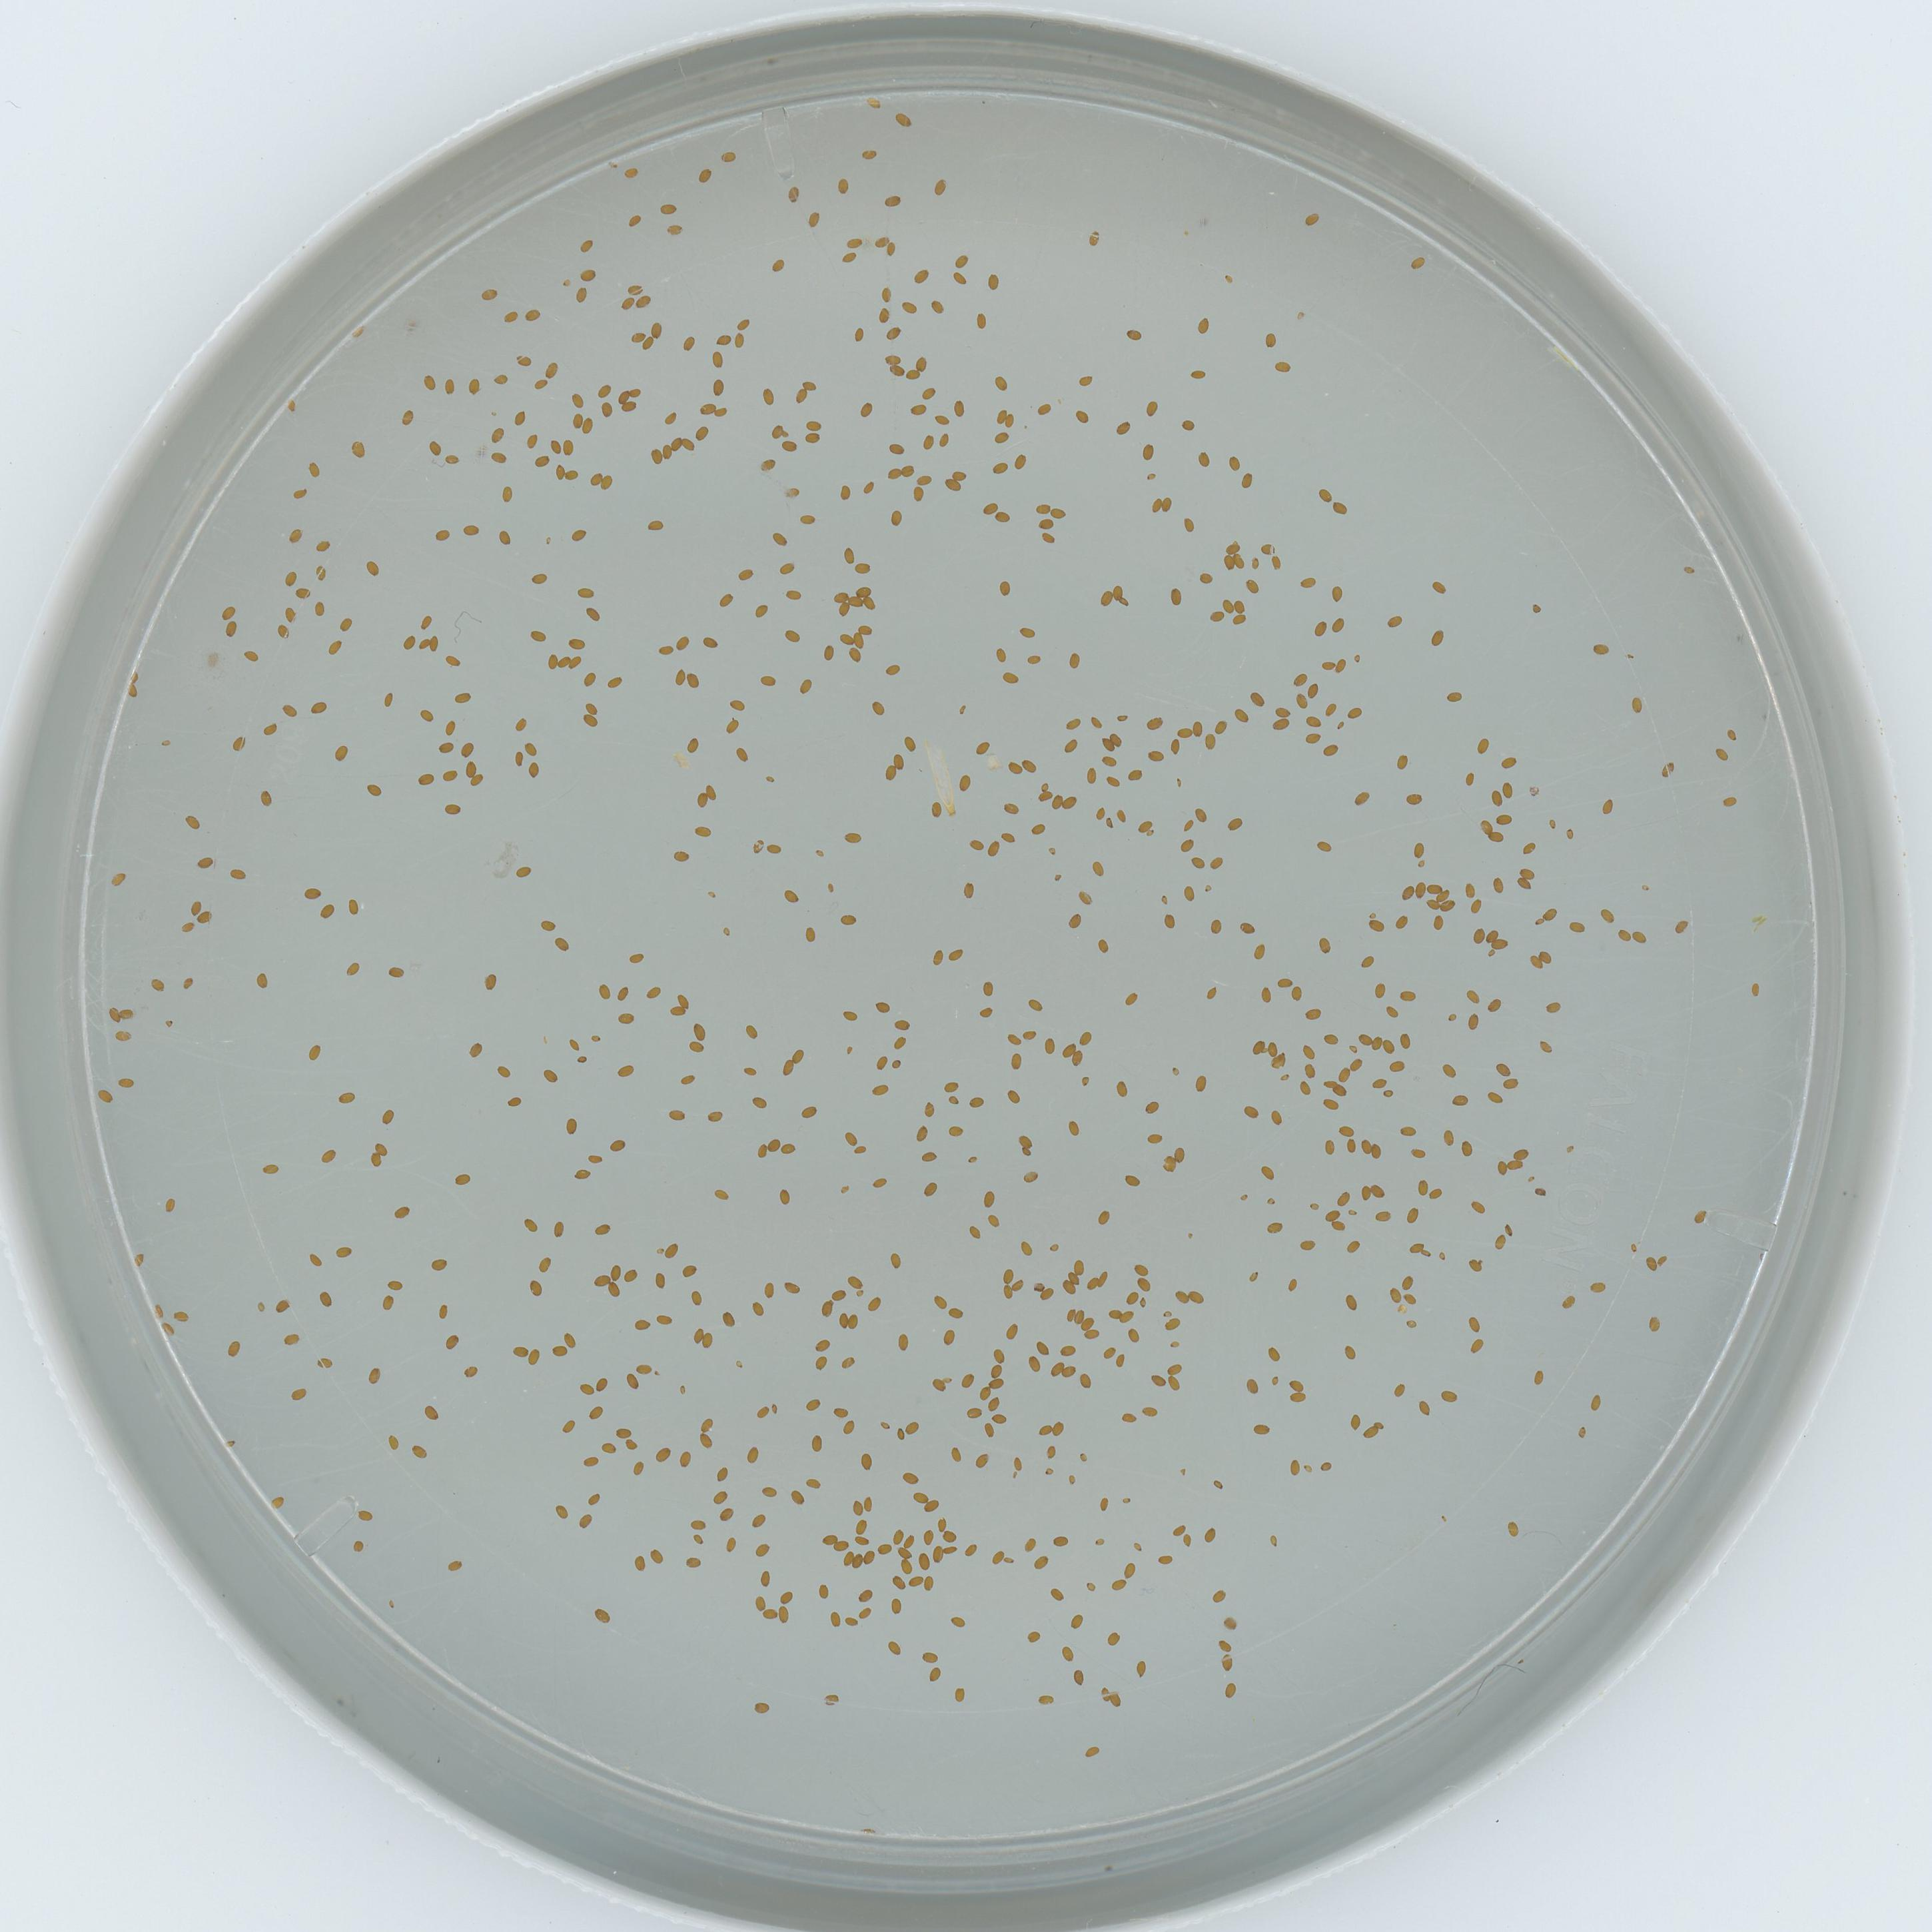seed: (759, 386, 780, 405), (568, 391, 587, 410), (709, 375, 729, 395), (690, 1019, 709, 1039), (1315, 934, 1334, 954), (1138, 441, 1157, 460), (1058, 1339, 1077, 1359), (1270, 1051, 1290, 1070), (679, 1260, 701, 1277), (336, 1088, 357, 1106), (651, 1270, 669, 1292), (366, 1150, 387, 1168), (1023, 1353, 1044, 1371), (318, 902, 338, 920), (442, 651, 462, 669), (901, 734, 918, 754), (379, 690, 396, 709), (182, 814, 202, 832), (683, 736, 702, 754), (579, 264, 598, 281), (784, 626, 803, 644), (771, 529, 791, 547), (541, 361, 561, 379), (931, 410, 950, 428), (870, 699, 890, 717), (416, 770, 435, 787), (858, 400, 878, 418), (770, 257, 787, 276), (363, 559, 382, 577), (835, 177, 853, 196), (955, 773, 973, 793), (525, 1277, 545, 1295), (593, 1605, 612, 1622), (253, 971, 271, 991), (288, 1385, 308, 1403), (782, 1277, 801, 1295), (421, 1403, 441, 1421), (575, 1511, 594, 1529), (317, 1290, 334, 1309), (318, 1145, 338, 1162), (901, 1468, 920, 1486), (364, 1366, 384, 1384), (281, 1329, 299, 1348), (717, 1506, 736, 1523), (653, 1444, 672, 1461), (625, 1373, 642, 1392), (858, 1453, 878, 1470), (1113, 418, 1132, 435), (1311, 617, 1330, 635), (1444, 688, 1463, 706), (1327, 584, 1346, 602), (1060, 738, 1079, 755), (1428, 628, 1445, 648), (1125, 766, 1145, 784), (1366, 916, 1385, 934), (1166, 587, 1185, 605), (1058, 1644, 1077, 1661), (1341, 1292, 1361, 1309), (1253, 1419, 1272, 1437), (1299, 1042, 1318, 1060), (1067, 1668, 1086, 1686), (1320, 1138, 1338, 1157), (1069, 1049, 1086, 1069), (1265, 1219, 1284, 1237), (929, 800, 945, 821), (786, 184, 801, 205), (1014, 1134, 1035, 1150), (929, 948, 947, 966), (909, 400, 927, 418), (343, 899, 361, 916), (458, 740, 476, 757), (947, 945, 964, 962), (885, 191, 902, 209), (876, 306, 893, 324), (715, 331, 732, 349), (184, 897, 202, 915), (529, 626, 547, 644), (718, 591, 736, 609), (948, 400, 966, 418), (336, 616, 354, 633), (784, 888, 801, 906), (754, 602, 771, 619), (462, 520, 479, 538), (548, 437, 566, 455), (888, 510, 906, 527), (303, 885, 320, 902), (571, 285, 589, 303), (648, 320, 665, 338), (793, 387, 810, 405), (333, 745, 350, 763), (310, 699, 327, 717), (674, 633, 692, 651), (195, 855, 212, 872), (570, 525, 587, 543), (805, 211, 823, 228), (349, 439, 366, 456), (888, 439, 906, 456), (840, 547, 858, 564), (701, 633, 718, 651), (444, 800, 462, 817), (709, 350, 727, 368), (667, 219, 685, 237), (584, 605, 602, 623), (777, 1587, 794, 1605), (915, 1553, 932, 1571), (617, 1060, 635, 1077), (750, 1511, 768, 1529), (600, 1438, 617, 1456), (890, 1573, 908, 1591), (720, 1311, 738, 1329), (922, 1180, 939, 1198), (554, 1502, 571, 1520), (442, 1332, 460, 1350), (563, 1115, 580, 1132), (481, 973, 499, 991), (745, 1445, 763, 1463), (789, 1488, 807, 1506), (617, 1008, 635, 1026), (888, 1253, 906, 1270), (858, 1585, 876, 1603), (752, 1092, 770, 1109), (663, 1242, 681, 1260), (541, 1065, 559, 1083), (867, 1293, 885, 1311), (163, 1196, 180, 1214), (172, 1306, 189, 1323), (225, 1338, 242, 1355), (920, 1527, 938, 1545), (809, 1433, 826, 1451), (669, 1102, 686, 1120), (495, 1062, 513, 1079), (536, 1254, 554, 1272), (430, 1254, 448, 1272), (356, 1506, 373, 1523), (686, 1288, 704, 1306), (594, 1219, 612, 1237), (991, 428, 1008, 446), (1329, 616, 1346, 633), (1247, 690, 1265, 708), (1145, 715, 1162, 732), (1065, 911, 1083, 929), (1598, 906, 1615, 924), (1359, 952, 1376, 970), (1628, 695, 1645, 713), (1226, 816, 1244, 833), (1062, 794, 1079, 812), (991, 458, 1008, 476), (1322, 741, 1339, 759), (1194, 317, 1212, 334), (1408, 840, 1426, 858), (1599, 798, 1617, 816), (1217, 554, 1235, 571), (1440, 1129, 1458, 1146), (1440, 1060, 1458, 1077), (1304, 1003, 1322, 1021), (1132, 1261, 1150, 1279), (1396, 1033, 1414, 1051), (1120, 1560, 1138, 1578), (1003, 1322, 1021, 1339), (1387, 1056, 1405, 1074), (1217, 1654, 1235, 1672), (980, 1189, 998, 1207), (1008, 1053, 1026, 1070), (1215, 1637, 1233, 1654), (1587, 1394, 1605, 1412), (1005, 1088, 1023, 1106), (1123, 1171, 1141, 1189), (1221, 1681, 1238, 1698), (1242, 1100, 1260, 1118), (1070, 1258, 1088, 1276), (1504, 1520, 1522, 1537), (1645, 1315, 1663, 1332), (1136, 1276, 1154, 1293), (161, 1322, 179, 1339), (1679, 561, 1697, 579), (839, 909, 858, 925), (533, 453, 552, 469), (694, 823, 713, 839), (883, 763, 899, 782), (552, 936, 571, 952), (510, 409, 529, 425), (465, 377, 481, 396), (911, 267, 931, 283), (226, 867, 246, 883), (396, 409, 416, 425), (918, 1148, 938, 1164), (587, 1403, 607, 1419), (550, 1219, 566, 1238), (895, 1332, 911, 1352), (527, 1348, 543, 1368), (609, 1261, 625, 1281), (633, 1315, 653, 1330), (906, 1573, 925, 1589), (1223, 455, 1242, 471), (1352, 791, 1371, 807), (1074, 890, 1093, 906), (1405, 791, 1424, 807), (1189, 718, 1205, 738), (1178, 885, 1198, 901), (1251, 943, 1267, 962), (1490, 787, 1506, 807), (1403, 1207, 1422, 1223), (1495, 1062, 1514, 1077), (1113, 1079, 1129, 1099), (1042, 1037, 1058, 1056), (1076, 1031, 1095, 1047), (1065, 1614, 1085, 1629), (1299, 1062, 1318, 1077), (1244, 1376, 1260, 1396), (1334, 1189, 1353, 1205), (1095, 1270, 1111, 1290), (1382, 1037, 1398, 1056), (985, 1394, 1001, 1414), (1192, 1074, 1208, 1093), (1095, 1684, 1111, 1704), (1139, 1405, 1161, 1419), (1173, 1145, 1187, 1166), (426, 439, 444, 455), (460, 761, 478, 777), (281, 702, 299, 718), (453, 690, 471, 706), (531, 570, 548, 586), (596, 382, 612, 400), (219, 603, 235, 621), (524, 306, 541, 322), (738, 566, 755, 582), (442, 720, 458, 738), (577, 586, 594, 602), (694, 425, 711, 441), (920, 384, 938, 400), (607, 674, 625, 690), (909, 487, 927, 502), (920, 432, 936, 449), (488, 426, 506, 442), (846, 830, 863, 846), (847, 232, 865, 248), (437, 740, 455, 755), (568, 633, 586, 649), (798, 678, 816, 694), (580, 672, 598, 688), (699, 400, 717, 416), (287, 527, 304, 543), (628, 948, 646, 964), (911, 354, 929, 370), (801, 925, 819, 941), (626, 281, 644, 297), (257, 791, 274, 807), (805, 416, 823, 432), (582, 699, 600, 715), (685, 672, 702, 688), (281, 607, 299, 623), (326, 639, 343, 655), (901, 299, 918, 315), (499, 487, 515, 504), (660, 200, 678, 216), (433, 527, 451, 543), (310, 602, 327, 617), (313, 538, 331, 554), (228, 736, 246, 752), (366, 782, 384, 798), (646, 517, 663, 533), (729, 695, 747, 711), (221, 621, 239, 637), (855, 559, 872, 575), (803, 375, 821, 391), (418, 708, 435, 724), (886, 324, 904, 340), (954, 253, 970, 271), (862, 145, 879, 161), (732, 331, 748, 349), (525, 761, 543, 777), (419, 373, 437, 389), (950, 271, 968, 287), (663, 410, 681, 426), (734, 747, 752, 763), (872, 232, 890, 248), (821, 644, 839, 660), (400, 633, 416, 651), (847, 648, 865, 663), (671, 669, 686, 686), (628, 327, 646, 343), (702, 784, 718, 801), (936, 432, 952, 449), (568, 653, 584, 671), (679, 334, 697, 350), (837, 602, 855, 617), (786, 483, 801, 501), (893, 111, 911, 127), (931, 179, 947, 196), (715, 1465, 732, 1481), (801, 1100, 819, 1116), (750, 1594, 768, 1610), (777, 1187, 794, 1203), (874, 998, 892, 1014), (649, 1548, 667, 1564), (462, 1362, 479, 1378), (386, 1276, 403, 1292), (893, 1016, 911, 1031), (826, 1612, 844, 1628), (678, 1451, 695, 1467), (690, 1514, 708, 1530), (842, 1129, 860, 1145), (892, 1033, 909, 1049), (379, 1106, 396, 1122), (511, 1341, 529, 1357), (379, 1295, 396, 1311), (947, 1304, 964, 1320), (713, 1488, 731, 1504), (805, 1474, 823, 1490), (393, 1205, 410, 1221), (761, 1281, 778, 1297), (805, 1396, 823, 1412), (924, 1647, 939, 1665), (888, 1598, 906, 1614), (722, 1537, 740, 1553), (594, 1375, 612, 1391), (925, 1665, 943, 1681), (586, 1490, 603, 1506), (550, 1341, 568, 1357), (272, 1297, 290, 1313), (410, 1442, 428, 1458), (685, 1553, 702, 1569), (761, 1483, 778, 1499), (754, 1698, 771, 1714), (819, 1300, 837, 1316), (858, 1605, 874, 1622), (764, 1136, 782, 1152), (630, 1460, 648, 1476), (522, 1215, 540, 1231), (948, 1445, 964, 1463), (708, 1106, 725, 1122), (609, 1136, 626, 1152), (950, 1686, 966, 1704), (780, 1139, 798, 1155), (816, 1336, 833, 1352), (623, 1265, 640, 1281), (306, 1044, 322, 1062), (453, 1171, 471, 1187), (931, 1293, 948, 1309), (759, 1569, 775, 1587), (814, 1353, 832, 1369), (816, 1583, 833, 1599), (713, 1185, 731, 1201), (750, 1299, 768, 1315), (117, 1072, 134, 1088), (343, 961, 361, 977), (832, 1284, 849, 1300), (435, 1304, 451, 1322), (840, 1353, 858, 1369), (941, 1329, 957, 1346), (823, 1691, 840, 1707), (1099, 754, 1116, 770), (1290, 671, 1307, 686), (996, 580, 1014, 596), (1187, 855, 1205, 870), (1261, 333, 1279, 349), (1231, 708, 1249, 724), (1490, 878, 1507, 893), (1392, 913, 1410, 929), (1316, 487, 1334, 502), (1141, 400, 1159, 416), (1468, 899, 1486, 915), (1274, 357, 1292, 373), (1238, 472, 1254, 490), (1631, 929, 1649, 945), (1315, 839, 1332, 855), (1076, 372, 1093, 387), (1010, 453, 1028, 469), (1021, 759, 1039, 775), (1495, 812, 1513, 828), (1543, 906, 1560, 922), (1592, 640, 1610, 656), (1086, 715, 1104, 731), (1028, 821, 1046, 837), (1330, 499, 1348, 515), (1615, 927, 1633, 943), (1430, 580, 1447, 596), (1194, 451, 1212, 467), (1081, 768, 1099, 784), (985, 272, 1001, 290), (1065, 715, 1083, 731), (1385, 612, 1403, 628), (1146, 747, 1162, 764), (1304, 715, 1322, 731), (1474, 738, 1491, 754), (1088, 862, 1106, 878), (1173, 724, 1191, 740), (1461, 883, 1479, 899), (1072, 407, 1090, 423), (993, 373, 1008, 391), (1161, 911, 1177, 929), (1180, 517, 1198, 533), (1306, 731, 1323, 747), (1201, 734, 1217, 752), (1408, 255, 1426, 271), (1224, 540, 1242, 556), (975, 311, 991, 329), (1660, 761, 1677, 777), (1373, 1207, 1391, 1223), (1162, 1316, 1180, 1332), (1299, 1237, 1316, 1253), (1465, 1316, 1483, 1332), (1398, 987, 1415, 1003), (991, 1408, 1008, 1424), (1399, 1122, 1417, 1138), (1049, 1532, 1067, 1548), (1148, 1371, 1166, 1387), (1104, 1629, 1120, 1647), (1187, 1290, 1205, 1306), (991, 1346, 1008, 1362), (1286, 1375, 1304, 1391), (1513, 1143, 1530, 1159), (1297, 1079, 1315, 1095), (1491, 1233, 1509, 1249), (1486, 996, 1504, 1012), (1453, 1090, 1470, 1106), (1123, 1325, 1139, 1343), (1076, 1373, 1093, 1389), (1258, 1164, 1276, 1180), (1023, 1628, 1040, 1644), (1458, 1139, 1476, 1155), (1286, 985, 1304, 1001), (1258, 985, 1274, 1003), (1440, 1385, 1458, 1401), (1145, 1129, 1162, 1145), (1486, 1088, 1504, 1104), (1063, 1120, 1081, 1136), (1371, 982, 1389, 998), (1491, 1159, 1509, 1175), (1415, 1398, 1433, 1414), (1035, 1339, 1051, 1357), (1037, 1691, 1054, 1707), (1467, 1256, 1484, 1272), (1361, 1424, 1378, 1440), (980, 980, 998, 996), (1589, 1277, 1606, 1293), (966, 1405, 984, 1421), (1265, 1345, 1281, 1362), (1122, 1288, 1139, 1304), (1049, 1361, 1065, 1378), (1382, 1001, 1399, 1017), (1267, 1109, 1284, 1125), (1021, 1536, 1039, 1552), (1338, 1123, 1355, 1139), (1502, 1076, 1520, 1092), (1283, 1276, 1300, 1292), (1122, 991, 1139, 1007), (1368, 1184, 1385, 1200), (1468, 1338, 1486, 1353), (1691, 1207, 1709, 1223), (1093, 1208, 1111, 1224), (1560, 1292, 1576, 1309), (1322, 1095, 1339, 1111), (1010, 1276, 1026, 1293), (1060, 1042, 1077, 1058), (1748, 980, 1764, 998), (1444, 1008, 1461, 1024), (1166, 1336, 1184, 1352), (865, 96, 883, 111), (269, 1495, 287, 1511), (943, 478, 962, 492), (441, 768, 460, 782), (780, 1058, 794, 1077), (564, 1330, 579, 1350), (1270, 720, 1290, 734), (1095, 738, 1115, 752), (962, 881, 977, 901), (1529, 952, 1543, 971), (1467, 1012, 1481, 1031), (1369, 1033, 1384, 1053), (1033, 791, 1054, 803), (885, 662, 901, 678), (885, 464, 901, 479), (929, 299, 945, 315), (839, 483, 855, 499), (842, 249, 858, 265), (515, 863, 531, 879), (628, 211, 644, 226), (292, 487, 308, 502), (833, 587, 849, 603), (916, 471, 932, 487), (674, 847, 690, 863), (490, 449, 506, 465), (879, 287, 895, 303), (736, 315, 752, 331), (276, 623, 292, 639), (540, 916, 556, 932), (281, 570, 297, 586), (780, 559, 796, 575), (697, 166, 713, 182), (418, 612, 433, 628), (262, 722, 278, 738), (568, 412, 584, 428), (497, 529, 513, 545), (580, 418, 596, 433), (766, 840, 782, 856), (801, 510, 817, 525), (902, 462, 918, 478), (306, 462, 322, 478), (510, 752, 525, 768), (602, 474, 617, 490), (294, 584, 310, 600), (524, 432, 540, 448), (561, 441, 577, 456), (637, 294, 653, 310), (885, 241, 901, 257), (481, 285, 497, 301), (786, 586, 801, 602), (648, 448, 663, 464), (623, 165, 639, 180), (694, 793, 709, 809), (642, 334, 658, 350), (522, 741, 538, 757), (725, 718, 741, 734), (805, 430, 821, 446), (658, 642, 674, 658), (543, 653, 559, 669), (111, 872, 127, 888), (556, 655, 571, 671), (874, 1173, 890, 1189), (616, 985, 632, 1001), (646, 984, 662, 1000), (791, 1046, 807, 1062), (575, 1166, 591, 1182), (904, 1419, 920, 1435), (632, 1555, 648, 1571), (847, 1270, 863, 1286), (688, 1037, 704, 1053), (941, 1529, 957, 1545), (596, 982, 612, 998), (755, 1405, 771, 1421), (833, 1403, 849, 1419), (755, 1541, 771, 1557), (874, 1053, 890, 1069), (699, 1433, 715, 1449), (943, 1079, 959, 1095), (448, 1557, 464, 1573), (149, 977, 165, 993), (587, 1150, 603, 1166), (679, 1069, 695, 1085), (566, 1037, 582, 1053), (745, 1023, 761, 1039), (874, 1079, 890, 1095), (669, 1005, 685, 1021), (350, 1537, 366, 1553), (334, 1244, 350, 1260), (308, 1251, 324, 1267), (947, 1122, 962, 1138), (607, 1283, 623, 1299), (844, 1614, 860, 1629), (754, 1141, 770, 1157), (853, 1141, 869, 1157), (847, 1311, 863, 1327), (899, 1557, 915, 1573), (120, 1003, 136, 1019), (920, 1576, 936, 1592), (1178, 837, 1194, 853), (1212, 718, 1228, 734), (1049, 504, 1065, 520), (982, 499, 998, 515), (1238, 920, 1254, 936), (1468, 927, 1484, 943), (1104, 775, 1120, 791), (1035, 400, 1051, 416), (1244, 579, 1260, 594), (1007, 761, 1023, 777), (1097, 591, 1113, 607), (1430, 915, 1445, 931), (1208, 855, 1224, 870), (1191, 364, 1207, 380), (1065, 653, 1081, 669), (1569, 918, 1585, 934), (1207, 918, 1223, 934), (1714, 747, 1730, 763), (993, 648, 1008, 663), (1178, 416, 1194, 432), (975, 740, 991, 755), (1267, 556, 1283, 571), (1026, 653, 1042, 669), (1346, 704, 1362, 720), (985, 840, 1001, 856), (1562, 826, 1578, 842), (1166, 740, 1182, 755), (968, 837, 984, 853), (1003, 412, 1019, 428), (1109, 586, 1125, 602), (1500, 782, 1516, 798), (1461, 771, 1477, 787), (1095, 938, 1111, 954), (1674, 918, 1690, 934), (1085, 230, 1100, 246), (1231, 612, 1247, 628), (1723, 727, 1739, 743), (1394, 754, 1410, 770), (1292, 694, 1307, 709), (1465, 987, 1481, 1003), (1042, 1444, 1058, 1460), (980, 1422, 996, 1438), (1401, 1274, 1417, 1290), (1026, 996, 1042, 1012), (1545, 998, 1560, 1014), (1083, 1743, 1099, 1759), (975, 1453, 991, 1468), (1322, 1030, 1338, 1046), (1470, 1198, 1486, 1214), (1017, 1240, 1033, 1256), (1392, 1382, 1408, 1398), (989, 1375, 1005, 1391), (978, 1003, 994, 1019), (1210, 1589, 1226, 1605), (1007, 1031, 1023, 1047), (1223, 1615, 1238, 1631), (1530, 1369, 1546, 1385), (1537, 1037, 1553, 1053), (1109, 1576, 1125, 1592), (1251, 1040, 1267, 1056), (1345, 1238, 1361, 1254), (1099, 1345, 1115, 1361), (1265, 1373, 1281, 1389), (1201, 1527, 1217, 1543), (1047, 1587, 1063, 1603), (1284, 1460, 1300, 1476), (1023, 1168, 1039, 1184), (1346, 1414, 1362, 1430), (1371, 1072, 1387, 1088), (1385, 1286, 1401, 1302), (1412, 1145, 1428, 1161), (1031, 1553, 1047, 1569), (1173, 1290, 1189, 1306), (1083, 1578, 1099, 1594), (1044, 1238, 1060, 1254), (1062, 1279, 1077, 1295), (977, 1384, 993, 1399), (1145, 1099, 1161, 1115), (1403, 1315, 1419, 1330), (1644, 1254, 1660, 1270), (1180, 1532, 1196, 1548), (1063, 1470, 1079, 1486), (1090, 1532, 1106, 1548), (1403, 1290, 1419, 1306), (1357, 1185, 1373, 1201), (968, 1224, 984, 1240), (1104, 1304, 1120, 1320), (1065, 1270, 1081, 1286), (1042, 1463, 1058, 1479), (133, 1253, 149, 1269), (428, 635, 442, 653), (720, 149, 738, 163), (492, 372, 510, 386), (600, 400, 614, 418), (780, 439, 798, 453), (579, 237, 596, 251), (893, 754, 908, 771), (904, 368, 922, 382), (839, 632, 856, 646), (713, 405, 731, 419), (582, 715, 600, 729), (195, 909, 212, 924), (656, 1311, 674, 1325), (582, 1454, 600, 1468), (915, 1125, 929, 1143), (635, 1362, 653, 1376), (591, 1272, 609, 1286), (467, 1042, 481, 1060), (577, 1382, 594, 1396), (886, 1640, 904, 1654), (911, 1490, 929, 1504), (741, 1063, 759, 1077), (559, 1419, 577, 1433), (690, 1532, 708, 1546), (690, 1327, 704, 1345), (855, 1532, 872, 1546), (113, 1028, 131, 1042), (1017, 626, 1035, 640), (1001, 801, 1019, 816), (1274, 704, 1292, 718), (1003, 671, 1021, 685), (1520, 842, 1537, 856), (1721, 794, 1739, 809), (1414, 881, 1428, 899), (1500, 755, 1518, 770), (993, 510, 1010, 524), (1039, 531, 1056, 545), (1440, 899, 1458, 913), (1115, 807, 1129, 824), (1302, 211, 1320, 225), (1426, 881, 1444, 895), (1334, 1065, 1352, 1079), (1008, 1456, 1026, 1470), (1051, 1421, 1065, 1438), (1155, 1552, 1173, 1566), (987, 1362, 1005, 1376), (1021, 1028, 1039, 1042), (1415, 1178, 1430, 1196), (1063, 1362, 1077, 1380), (1323, 1205, 1341, 1219), (1118, 1307, 1136, 1322), (1369, 1143, 1384, 1161), (1348, 1056, 1366, 1070), (989, 1548, 1003, 1566), (1345, 1138, 1359, 1155), (1330, 1083, 1348, 1097), (1079, 1316, 1097, 1330), (1276, 1070, 1293, 1085), (885, 352, 901, 366), (242, 649, 258, 663), (517, 352, 533, 366), (888, 364, 904, 379), (502, 308, 518, 322), (179, 918, 193, 934), (858, 582, 874, 596), (851, 327, 867, 341), (860, 621, 876, 635), (442, 380, 458, 395), (761, 672, 777, 686), (564, 467, 579, 483), (513, 718, 529, 732), (444, 453, 460, 467), (587, 471, 602, 487), (950, 469, 966, 483), (862, 479, 878, 494), (619, 295, 635, 310), (761, 456, 777, 471), (863, 596, 879, 610), (533, 377, 548, 391), (683, 437, 697, 453), (628, 384, 644, 398), (311, 566, 327, 580), (669, 435, 683, 451), (934, 1516, 950, 1530), (855, 1520, 870, 1534), (892, 1529, 906, 1545), (761, 1606, 777, 1621), (950, 1614, 964, 1629), (863, 1495, 878, 1511), (262, 1161, 278, 1175), (931, 1378, 947, 1392), (386, 1435, 402, 1449), (375, 1141, 389, 1157), (924, 1499, 939, 1513), (890, 1056, 906, 1070), (821, 1530, 837, 1545), (180, 975, 195, 991), (699, 1415, 715, 1430), (623, 1438, 639, 1453), (317, 1355, 333, 1369), (878, 1541, 893, 1555), (587, 1030, 603, 1044), (674, 993, 690, 1007), (849, 1499, 863, 1514), (506, 1093, 522, 1108), (778, 1606, 793, 1622), (842, 1419, 858, 1433), (701, 1332, 715, 1348), (931, 1546, 945, 1562), (897, 1546, 913, 1560), (97, 1086, 113, 1100), (106, 1007, 122, 1021), (833, 1537, 849, 1552), (904, 1532, 918, 1548), (1039, 517, 1054, 531), (1198, 571, 1214, 586), (1125, 327, 1141, 341), (1260, 541, 1276, 556), (1318, 658, 1334, 672), (1148, 497, 1162, 513), (1138, 819, 1154, 833), (1322, 702, 1338, 717), (1033, 501, 1049, 515), (1306, 683, 1322, 697), (1000, 830, 1016, 844), (1299, 575, 1315, 589), (1161, 497, 1175, 513), (1488, 832, 1504, 846), (1192, 809, 1208, 823), (1401, 885, 1415, 901), (1090, 807, 1106, 821), (1233, 600, 1247, 616), (1247, 556, 1261, 571), (1113, 711, 1129, 725), (1334, 658, 1350, 672), (1221, 600, 1235, 616), (1109, 732, 1123, 748), (1484, 927, 1500, 941), (1178, 819, 1194, 833), (1479, 819, 1495, 833), (1208, 609, 1224, 623), (1049, 794, 1063, 810), (1545, 817, 1560, 832), (1493, 936, 1509, 950), (1244, 1269, 1260, 1283), (1077, 1074, 1093, 1088), (1318, 1458, 1332, 1474), (962, 1543, 978, 1557), (1203, 985, 1219, 1000), (1276, 975, 1292, 989), (985, 1214, 1001, 1228), (1037, 1422, 1053, 1437), (1085, 1276, 1099, 1292), (1355, 1031, 1371, 1046), (1040, 1286, 1054, 1302), (1132, 1661, 1148, 1675), (1120, 1410, 1136, 1424), (1166, 1362, 1182, 1376), (1532, 1185, 1548, 1200), (1000, 1267, 1016, 1281), (1341, 1345, 1357, 1359), (1407, 1238, 1422, 1253), (1267, 1042, 1281, 1058), (1169, 1522, 1185, 1536), (1166, 1376, 1182, 1391), (1428, 1187, 1444, 1201), (1113, 1353, 1129, 1368), (1502, 1221, 1516, 1237), (1330, 1219, 1346, 1233), (1000, 1284, 1016, 1299), (1127, 1541, 1143, 1555), (1380, 1086, 1396, 1100), (1575, 1424, 1591, 1438), (1108, 1693, 1123, 1707), (1507, 1157, 1523, 1171), (1300, 1460, 1316, 1474), (1159, 1306, 1175, 1320), (1346, 1040, 1362, 1054), (1062, 1306, 1076, 1322), (1237, 1191, 1253, 1205), (1221, 271, 1235, 287), (349, 326, 364, 340), (469, 775, 487, 787), (614, 1426, 632, 1438), (387, 966, 405, 978), (924, 1100, 936, 1118), (1514, 878, 1532, 890), (1233, 554, 1246, 571), (968, 1095, 985, 1108), (1288, 1391, 1306, 1403), (1099, 1497, 1111, 1514), (855, 633, 869, 648), (617, 391, 632, 405), (824, 883, 839, 897), (844, 1007, 858, 1021), (863, 1550, 878, 1564), (893, 1428, 908, 1442), (947, 1093, 961, 1108), (575, 1053, 589, 1067), (878, 1419, 892, 1433), (842, 1552, 856, 1566), (1539, 950, 1553, 964), (994, 410, 1008, 425), (1435, 888, 1449, 902), (1001, 1553, 1016, 1568), (1267, 1534, 1281, 1548), (1307, 1200, 1322, 1214), (1120, 1493, 1134, 1507), (554, 465, 566, 481), (621, 400, 637, 412), (418, 637, 430, 653), (837, 1311, 849, 1327), (770, 1401, 782, 1417), (851, 1555, 863, 1571), (1520, 867, 1536, 879), (1422, 899, 1438, 911), (1083, 1329, 1099, 1341), (1656, 1253, 1668, 1269), (1212, 1476, 1224, 1491), (1433, 1249, 1449, 1261), (1077, 1449, 1090, 1465), (1074, 1309, 1086, 1325), (129, 669, 142, 685), (1529, 602, 1545, 614), (1361, 1138, 1371, 1155), (851, 594, 865, 607), (750, 842, 764, 855), (126, 685, 138, 699), (1136, 1295, 1148, 1309), (1322, 1076, 1336, 1088), (1169, 1063, 1182, 1077), (1334, 718, 1348, 731), (287, 398, 299, 412), (771, 423, 782, 439), (1115, 596, 1131, 607), (1017, 1146, 1033, 1157), (966, 1371, 977, 1387), (1145, 472, 1161, 483), (154, 1302, 165, 1318), (945, 1545, 957, 1557), (1037, 780, 1049, 793), (966, 1152, 978, 1164), (1373, 1419, 1385, 1431), (1534, 916, 1546, 929), (1484, 947, 1497, 959), (662, 444, 672, 458), (1419, 1247, 1433, 1258), (1345, 1208, 1359, 1219), (957, 1373, 966, 1387), (1145, 828, 1155, 839), (780, 428, 791, 439), (941, 1375, 954, 1384), (1417, 858, 1426, 869)
